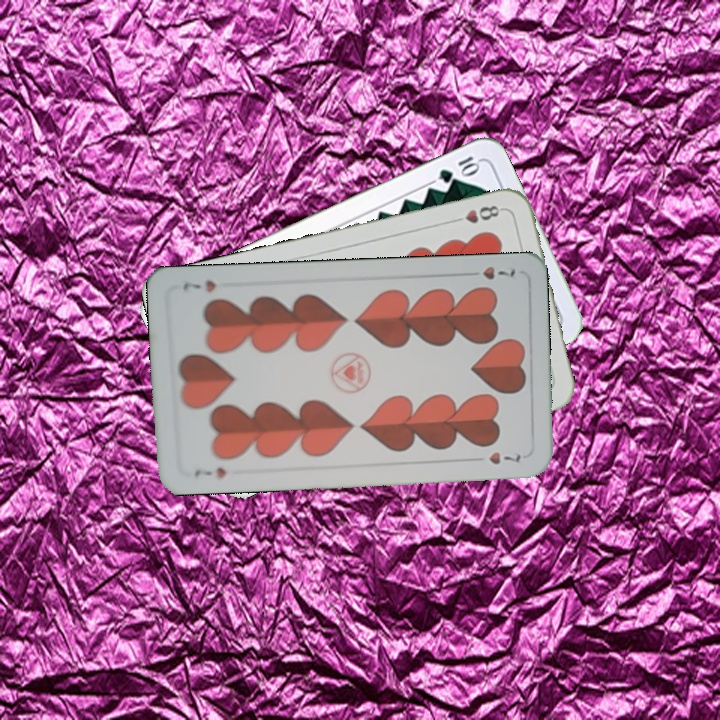G10: (434, 152, 483, 186)
H7: (461, 262, 519, 282), (190, 463, 229, 481)
H8: (448, 201, 506, 226)
